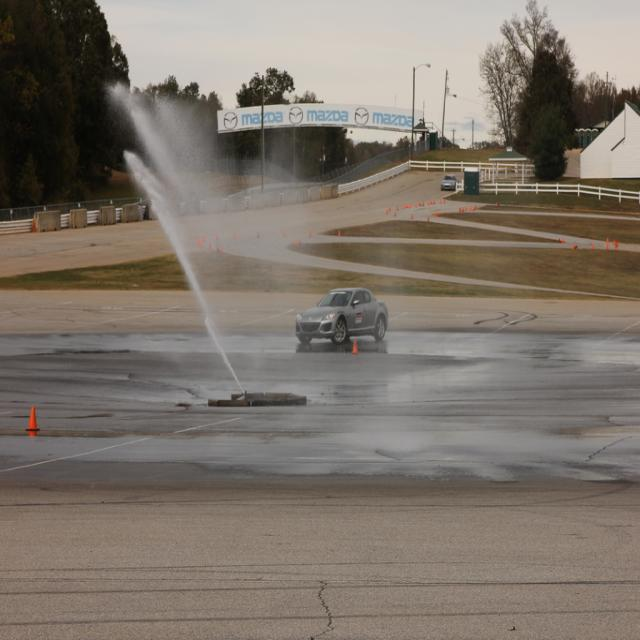car: (295, 275, 395, 351), (440, 175, 456, 189)
